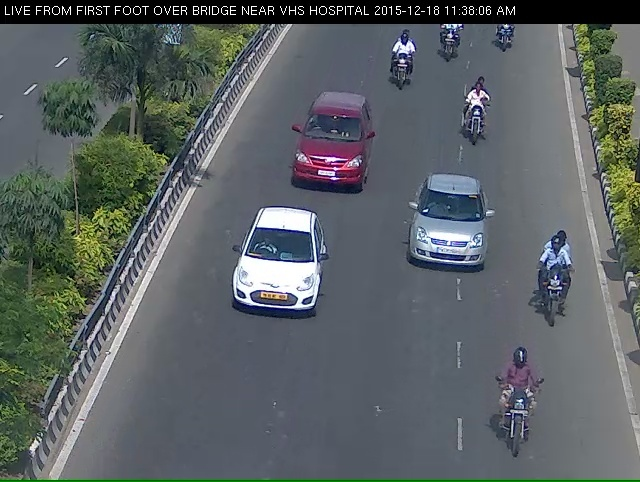Car: (220, 226, 330, 351), (405, 183, 500, 292), (289, 95, 370, 212)
Person: (495, 365, 551, 478), (531, 249, 578, 356), (450, 82, 496, 153), (383, 44, 414, 107), (434, 26, 464, 87), (490, 22, 520, 66)
